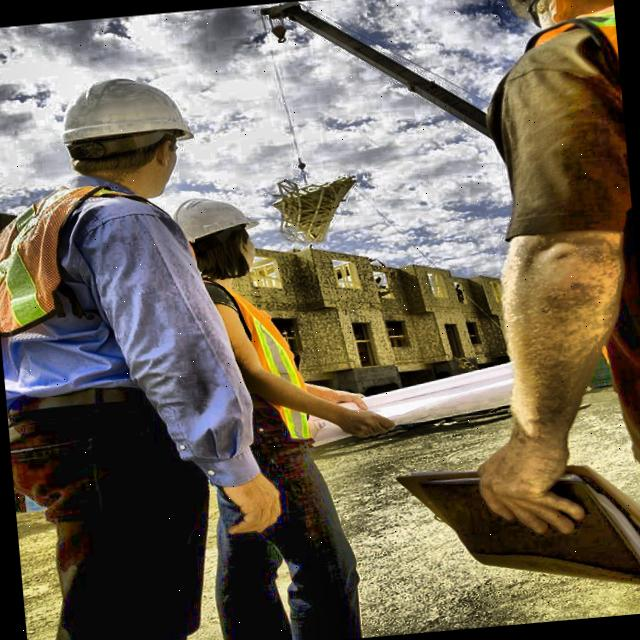helmet: (42, 60, 210, 202), (165, 178, 268, 308)
